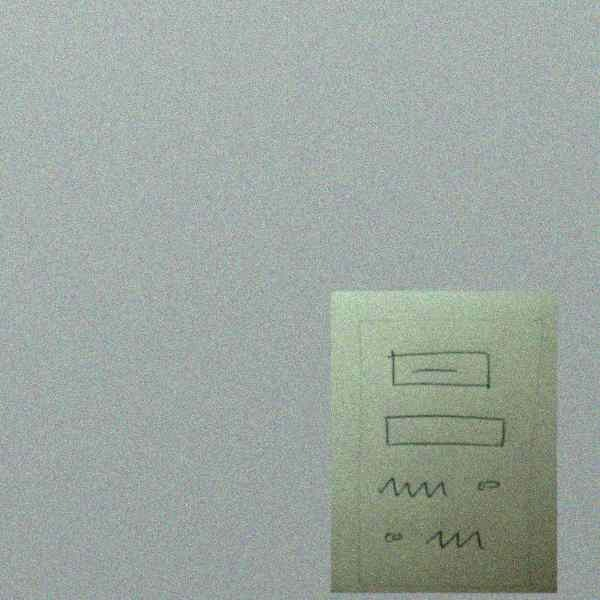button: (383, 346, 500, 392)
switch: (379, 527, 411, 550), (473, 475, 506, 495)
text: (374, 474, 453, 505), (423, 525, 490, 552)
text_input: (375, 412, 513, 459)
